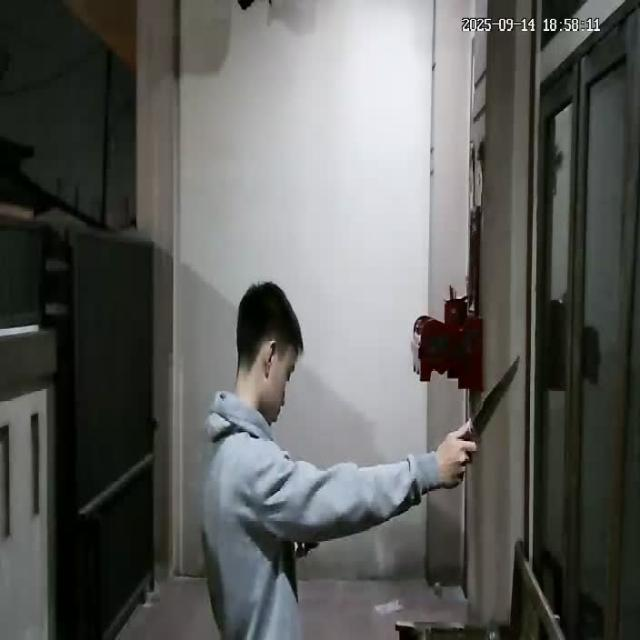senjata_tajam: (464, 352, 522, 443)
